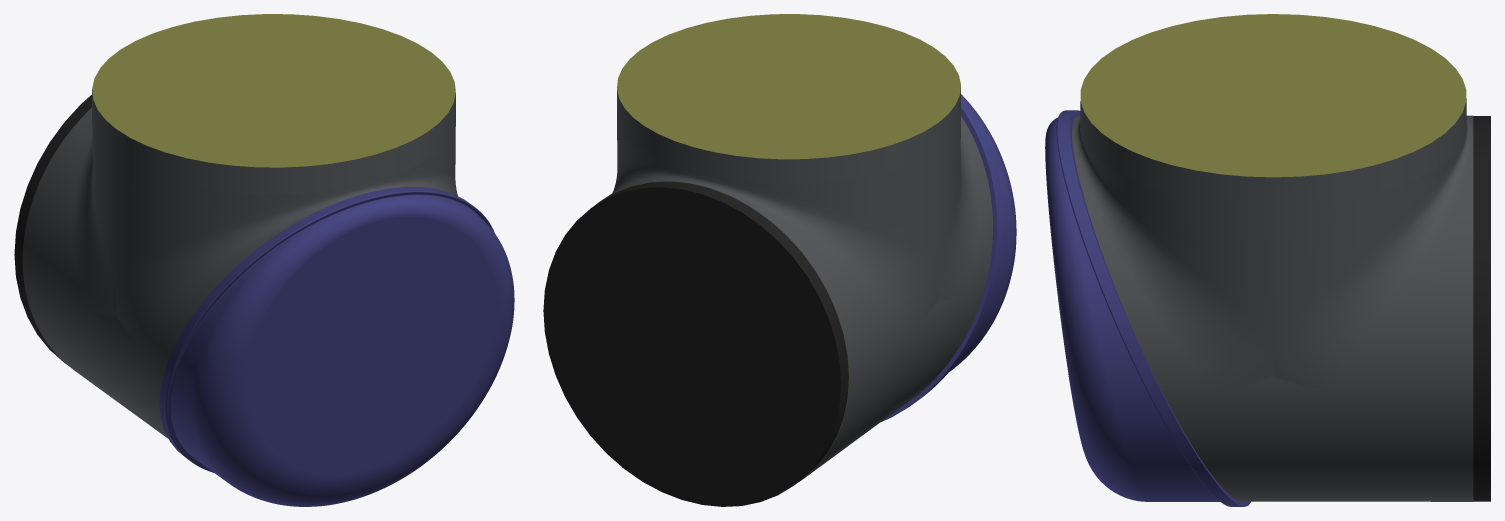
The model's file is Shoulder.dae.
3 renders of one model, left to right at view 1: azimuth 30°, elevation 25°; view 2: azimuth 150°, elevation 25°; view 3: azimuth 270°, elevation 25°, orthographic. The views are drawn at different scales.
Parts seen in each view (by area): view 1: Actor0, Actor1; view 2: Actor0, Actor1; view 3: Actor0, Actor1.
Boxes of the visible parts, bbox=[...] form: Actor0: bbox=[14, 14, 457, 438]; Actor1: bbox=[159, 187, 514, 506]; Actor0: bbox=[543, 14, 992, 506]; Actor1: bbox=[881, 94, 1016, 421]; Actor0: bbox=[1072, 14, 1490, 501]; Actor1: bbox=[1045, 110, 1250, 506].
Size of the model in its own units: 0.119 by 0.13 by 0.1337.
